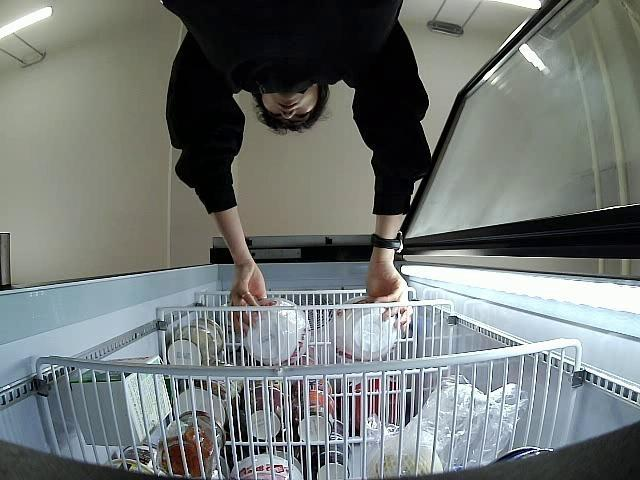09_yukGaeJang: (244, 299, 309, 364), (328, 298, 396, 360)
